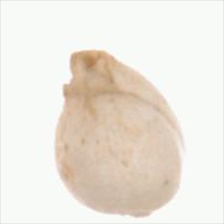L3: (61, 48, 123, 101)
L4: (54, 51, 184, 218)
